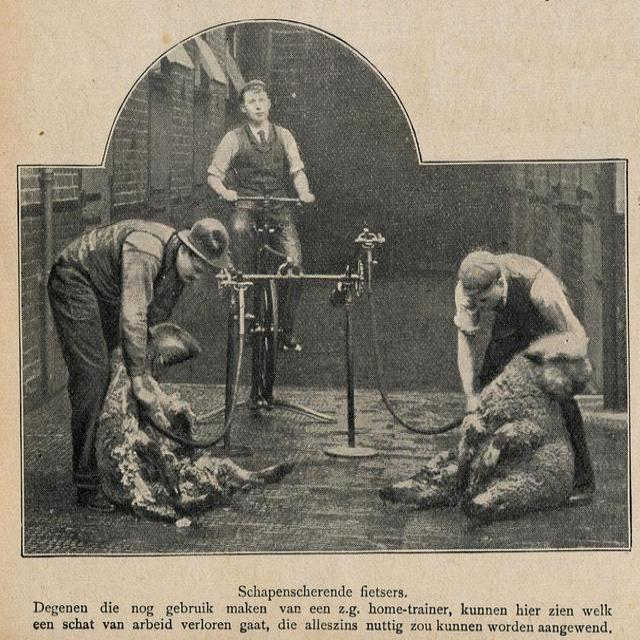Sheep: (97, 352, 296, 531), (417, 330, 599, 522)
